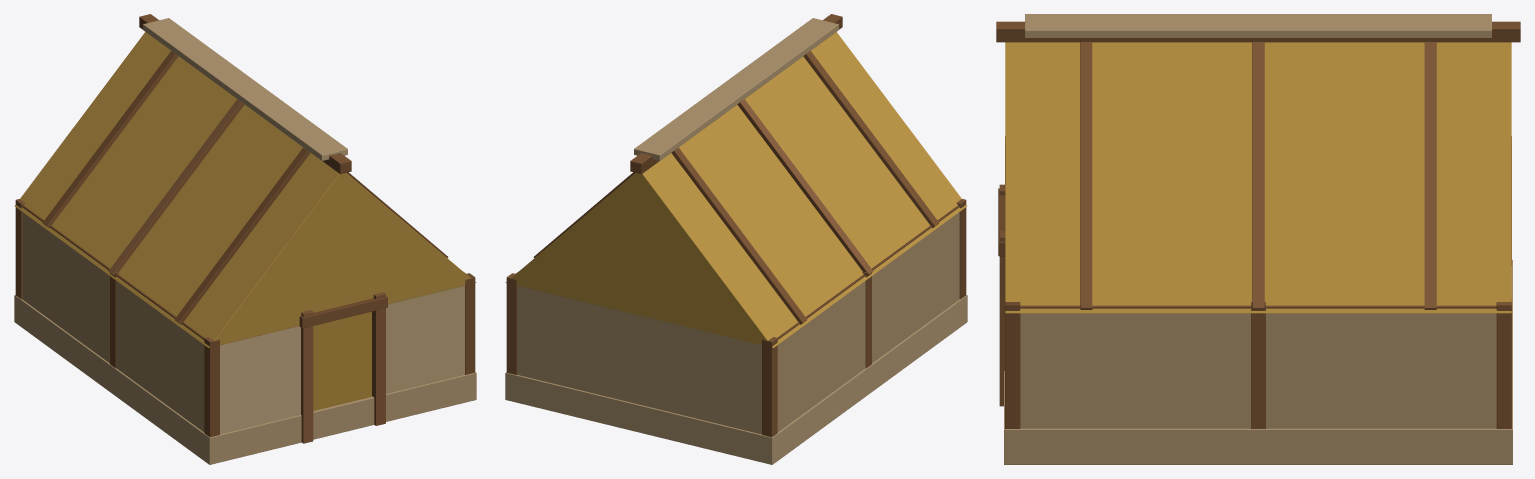
File: House_Paleo_b.fbx
3 views of the same model, side by side, from view 1: azimuth 30°, elevation 25°; view 2: azimuth 150°, elevation 25°; view 3: azimuth 270°, elevation 25° (orthographic). The views are drawn at different scales.
Parts seen in each view (by area): view 1: House_Paleo_b; view 2: House_Paleo_b; view 3: House_Paleo_b.
Boxes of the visible parts, left/top/right/bottom form: House_Paleo_b: left=14, top=14, right=476, bottom=464; House_Paleo_b: left=505, top=14, right=967, bottom=464; House_Paleo_b: left=996, top=14, right=1520, bottom=464.
Size of what is drawn, in the model's own units: 3.72 by 3.62 by 4.8.
